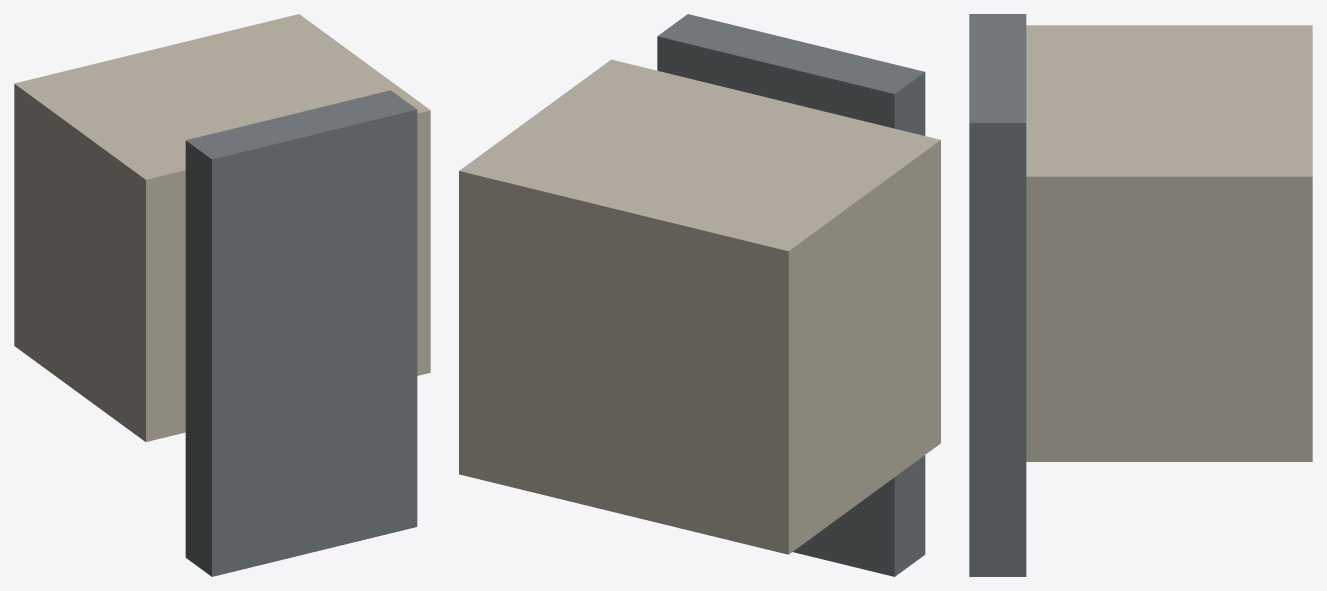
Rendered from wall_sconce.glb.
3 views of the same model, side by side, from view 1: azimuth 30°, elevation 25°; view 2: azimuth 150°, elevation 25°; view 3: azimuth 270°, elevation 25° (orthographic). The views are drawn at different scales.
Parts seen in each view (by area): view 1: body; view 2: body; view 3: body.
Part boxes in pixels (x1,y1,x2,y2): body: (14, 14, 430, 576); body: (459, 14, 940, 576); body: (969, 14, 1312, 576).
Bounding box in the file's own units: 0.25 × 0.35 × 0.24.
